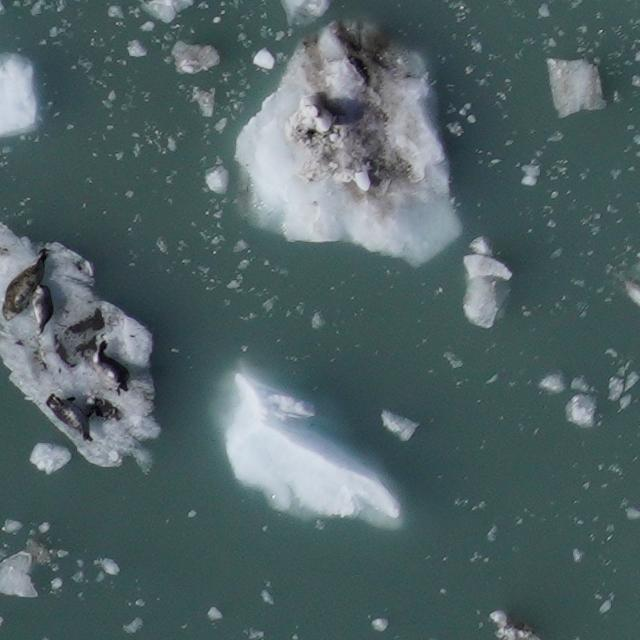seal: (0, 242, 62, 327), (42, 383, 106, 450), (83, 336, 142, 401), (30, 282, 58, 336), (46, 332, 78, 372)
